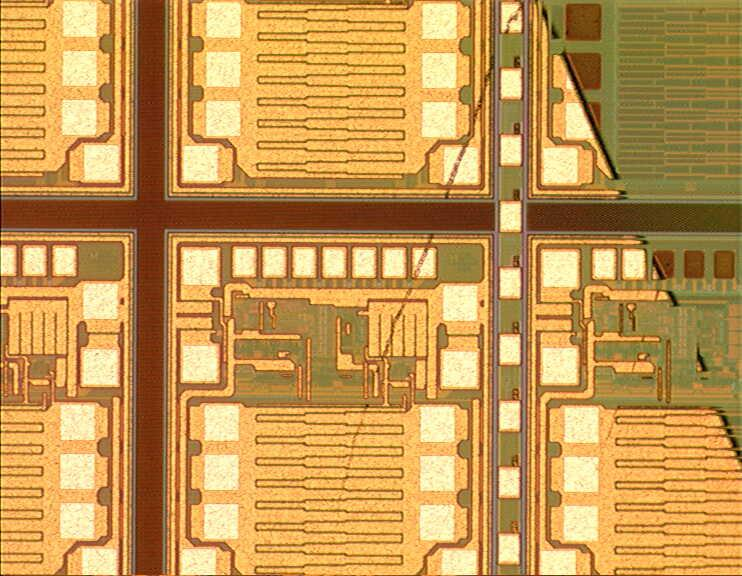SCRATCH: (324, 1, 532, 545)
